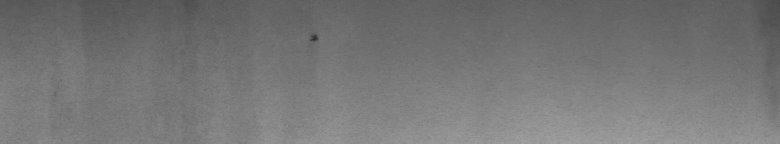fi: (308, 28, 323, 48)
